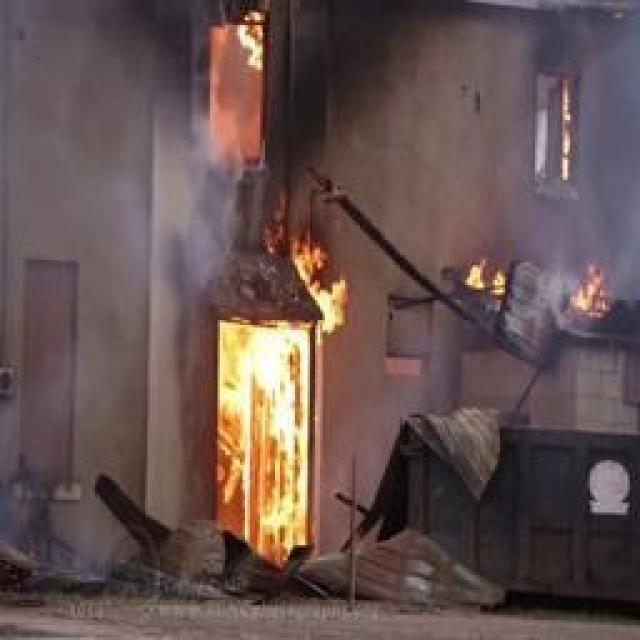fire: (220, 312, 320, 550), (202, 8, 262, 162)
